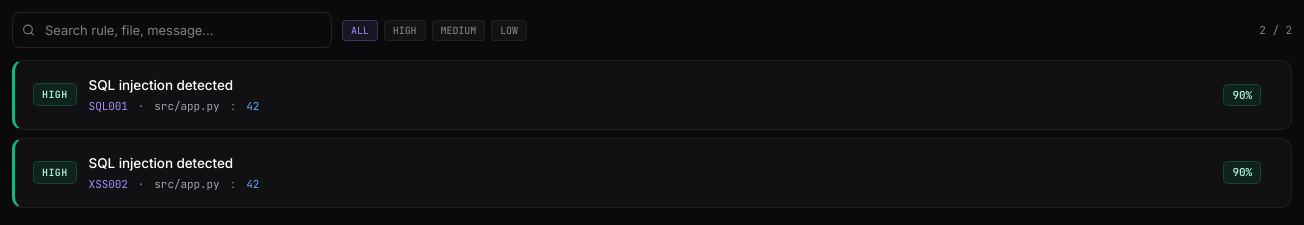
Test: FindingsTable › filters findings by search input
Type "XSS" into the field with placeholder "Search rule, file, message…". click: (172, 30)
box: [12,12,332,48]
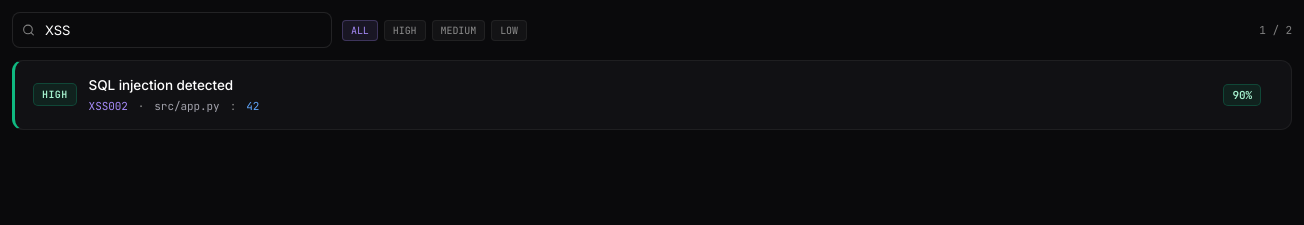
Expected: the text "XSS002" is shown, [89,98,128,115]
Result: the button "SQL001" is gone
